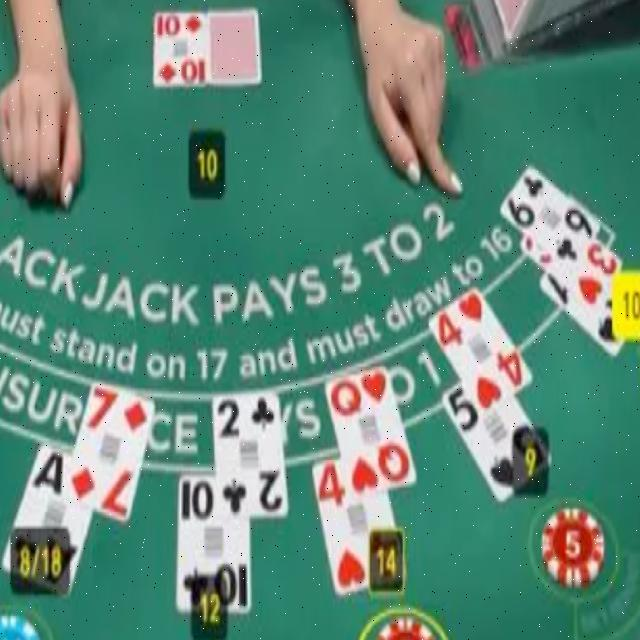Card-10: (178, 475, 249, 611), (154, 11, 208, 86)
Card-2: (214, 392, 286, 519)
Card-3: (519, 235, 622, 319)
Card-4: (429, 287, 533, 417), (313, 459, 405, 591)
Card-5: (442, 380, 550, 501)
Card-6: (499, 165, 600, 277)
Card-7: (66, 381, 155, 522)
Card-A: (2, 442, 93, 598), (539, 272, 624, 357)
Card-Q: (327, 367, 416, 495)
